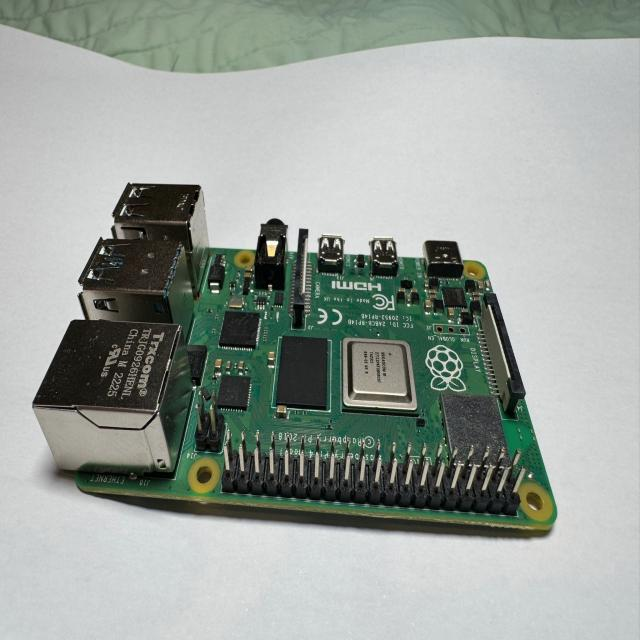CPU: (340, 336, 421, 420)
Ethernet: (32, 320, 180, 478)
GPIO: (225, 444, 518, 519)
RAM: (276, 328, 332, 422)
Raspberry: (32, 184, 558, 540)
micro-hdmi: (358, 237, 398, 277), (318, 234, 348, 277)
